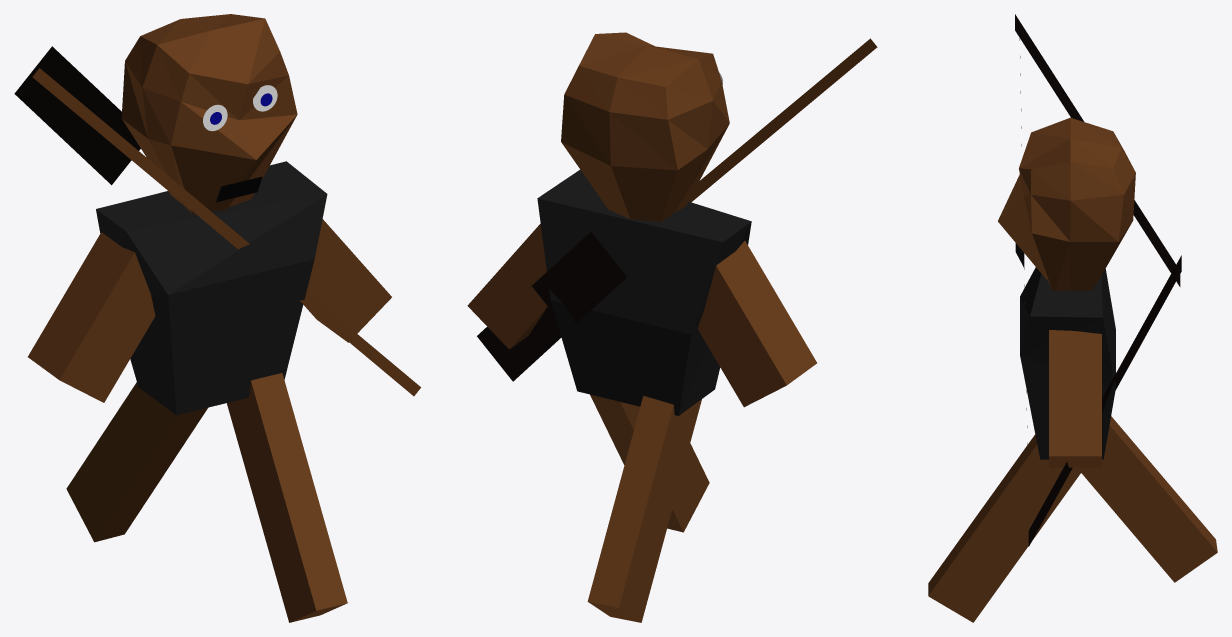
Rendered from archer3.obj.
3 views of the same model, side by side, from view 1: azimuth 30°, elevation 25°; view 2: azimuth 150°, elevation 25°; view 3: azimuth 270°, elevation 25° (orthographic). The views are drawn at different scales.
Parts seen in each view (by area): view 1: Cube.001, Cube, Cube.005, Cube.003, Cube.004, Plane.002_Plane.003, Plane.003_Plane.004, Cube.002, Plane; view 2: Cube.001, Cube, Cube.004, Cube.003, Plane.001_Plane.002, Cube.002, Cube.005, Plane.003_Plane.004; view 3: Cube, Cube.005, Cube.004, Cube.001, Cube.002, Plane.001_Plane.002, Plane.002_Plane.003.
Part boxes in pixels (x1,y1,x2,y2): Cube.001: [96, 161, 327, 415]; Cube: [121, 14, 297, 213]; Cube.005: [227, 373, 347, 622]; Cube.003: [28, 232, 155, 402]; Cube.004: [66, 382, 207, 542]; Plane.002_Plane.003: [14, 46, 140, 185]; Plane.003_Plane.004: [32, 68, 420, 396]; Cube.002: [303, 219, 391, 342]; Plane: [216, 176, 262, 202]; Cube.001: [537, 169, 751, 415]; Cube: [561, 32, 729, 222]; Cube.004: [587, 395, 701, 622]; Cube.003: [698, 241, 816, 407]; Plane.001_Plane.002: [477, 232, 626, 381]; Cube.002: [467, 224, 547, 349]; Cube.005: [590, 394, 709, 532]; Plane.003_Plane.004: [689, 38, 877, 202]; Cube: [998, 117, 1135, 291]; Cube.005: [928, 434, 1084, 622]; Cube.004: [1081, 416, 1217, 582]; Cube.001: [1020, 267, 1115, 459]; Cube.002: [1049, 330, 1101, 467]; Plane.001_Plane.002: [1028, 255, 1181, 546]; Plane.002_Plane.003: [1015, 14, 1180, 286].
Bounding box in the file's own units: 4.75 × 6.4 × 3.3.
